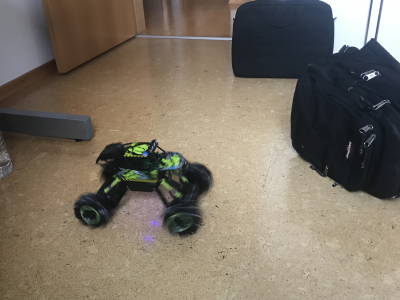remote control car: (69, 136, 215, 237)
